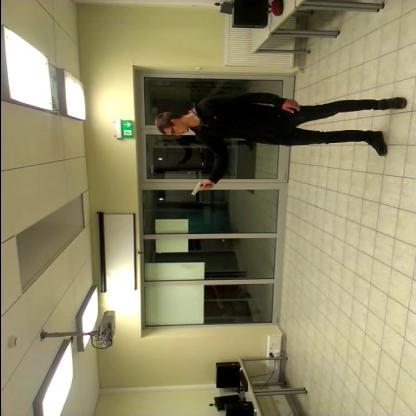Pistol: (188, 173, 214, 208)
